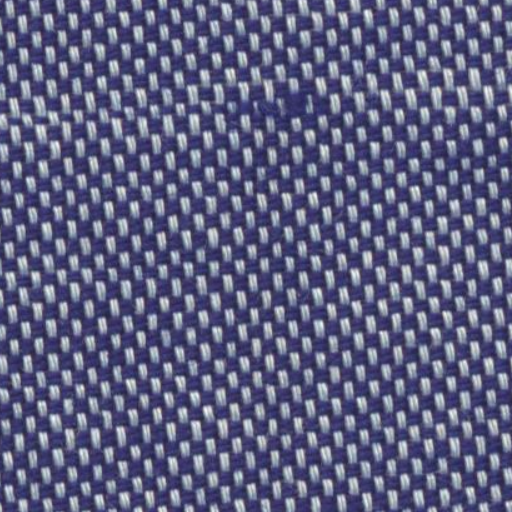TuoSha: (12, 62, 500, 154)
